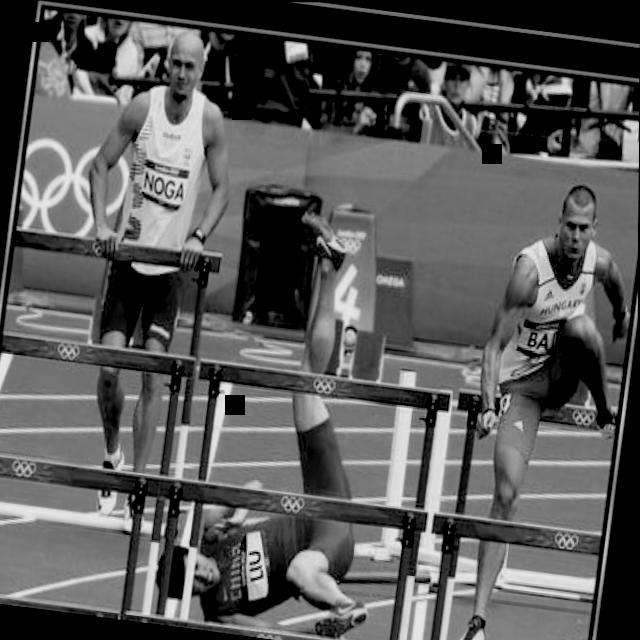Fall-Detected: (141, 155, 463, 636)
